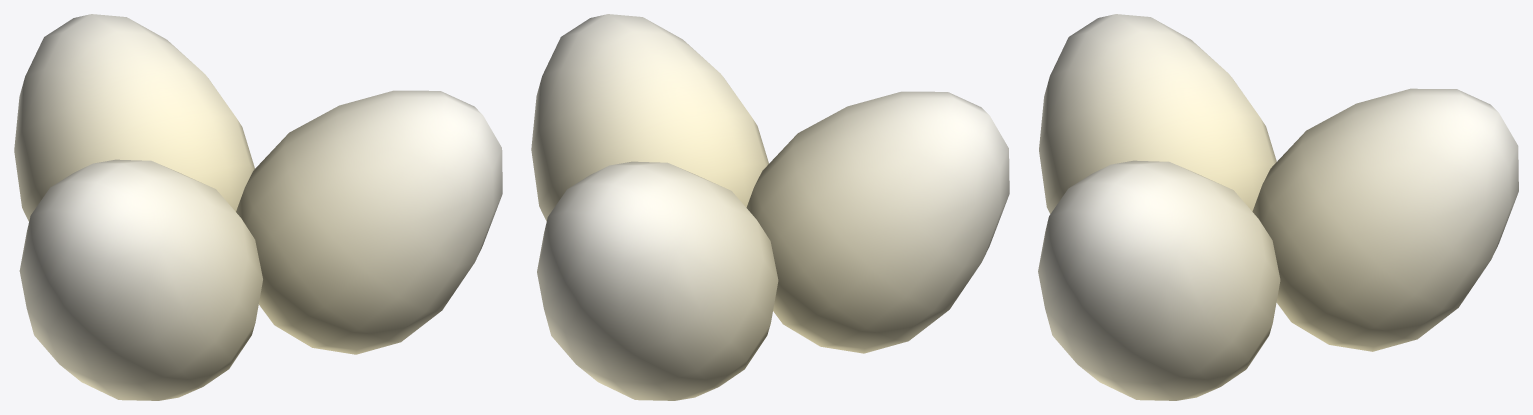
Rendered from Eggs.FBX.
3 views of the same model, side by side, from view 1: azimuth 30°, elevation 25°; view 2: azimuth 150°, elevation 25°; view 3: azimuth 270°, elevation 25° (orthographic).
Visible parts, largest first — view 1: Box009; view 2: Box009; view 3: Box009.
Part boxes in pixels (x1,y1,x2,y2): Box009: (14,14,502,400); Box009: (531,14,1009,400); Box009: (1038,14,1518,400).
Size of the model in its own units: 9.3 by 4.9 by 8.64.
1 material, 1 textured.
